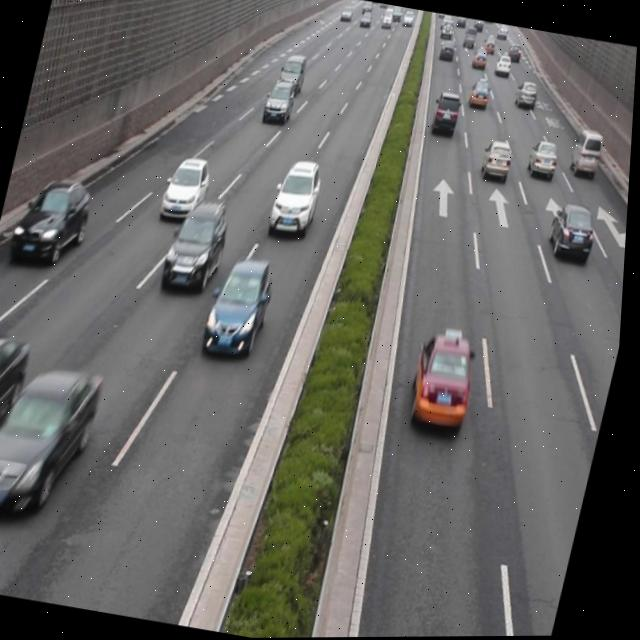car: (0, 356, 110, 523), (406, 326, 485, 436), (9, 172, 97, 270), (204, 257, 280, 363), (164, 200, 234, 291), (0, 332, 40, 471), (268, 157, 329, 243), (161, 152, 216, 222), (545, 202, 598, 262), (260, 77, 298, 129), (428, 90, 464, 140), (526, 138, 561, 182), (480, 137, 514, 180)
truck: (567, 124, 605, 182)
